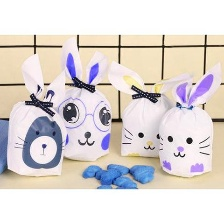snack: (101, 54, 197, 162), (1, 48, 72, 181), (48, 34, 117, 166), (150, 58, 223, 181)
